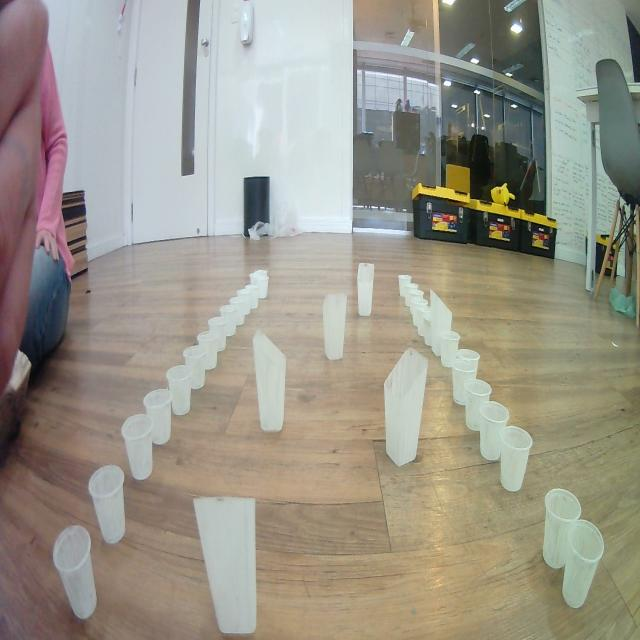erva_daninha: (193, 496, 257, 636), (384, 347, 429, 468), (252, 329, 286, 434), (322, 294, 347, 362), (430, 289, 452, 357), (357, 262, 375, 318)
planta: (52, 524, 98, 622), (562, 519, 605, 609), (542, 487, 581, 570), (88, 464, 127, 546), (499, 426, 533, 493), (121, 413, 154, 481), (479, 401, 510, 462), (142, 387, 172, 447), (463, 378, 493, 432), (166, 365, 193, 417), (451, 357, 477, 406), (183, 344, 206, 391), (196, 329, 218, 371), (439, 329, 461, 368), (457, 348, 481, 381), (208, 315, 228, 352), (219, 304, 237, 337), (228, 295, 246, 327), (250, 274, 269, 299), (236, 287, 252, 316), (244, 283, 260, 310), (412, 303, 430, 327), (405, 288, 425, 308), (417, 310, 431, 338), (409, 296, 428, 316), (397, 274, 413, 297), (248, 268, 268, 284), (423, 318, 433, 347), (404, 282, 418, 294)
